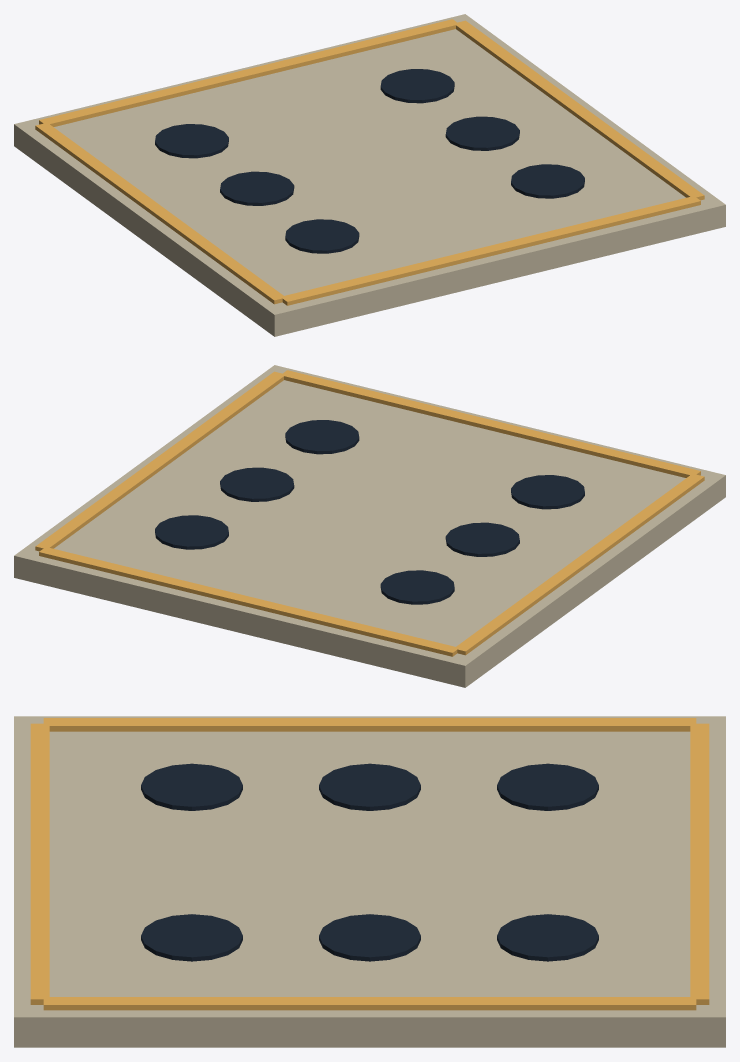
The model's file is space_die_cream_face_6.glb.
3 renders of one model, top to bottom at view 1: azimuth 30°, elevation 25°; view 2: azimuth 150°, elevation 25°; view 3: azimuth 270°, elevation 25°, orthographic. The views are drawn at different scales.
Parts seen in each view (by area): view 1: FixedDetails, BrassTrim; view 2: FixedDetails, BrassTrim; view 3: FixedDetails, BrassTrim.
Part boxes in pixels (bbox=[...]): FixedDetails: bbox=[14, 14, 725, 336]; BrassTrim: bbox=[35, 19, 704, 305]; FixedDetails: bbox=[14, 365, 725, 687]; BrassTrim: bbox=[35, 370, 704, 656]; FixedDetails: bbox=[14, 716, 725, 1047]; BrassTrim: bbox=[30, 718, 709, 1010].
Bounding box in the file's own units: 0.6 × 0.034 × 0.6.
